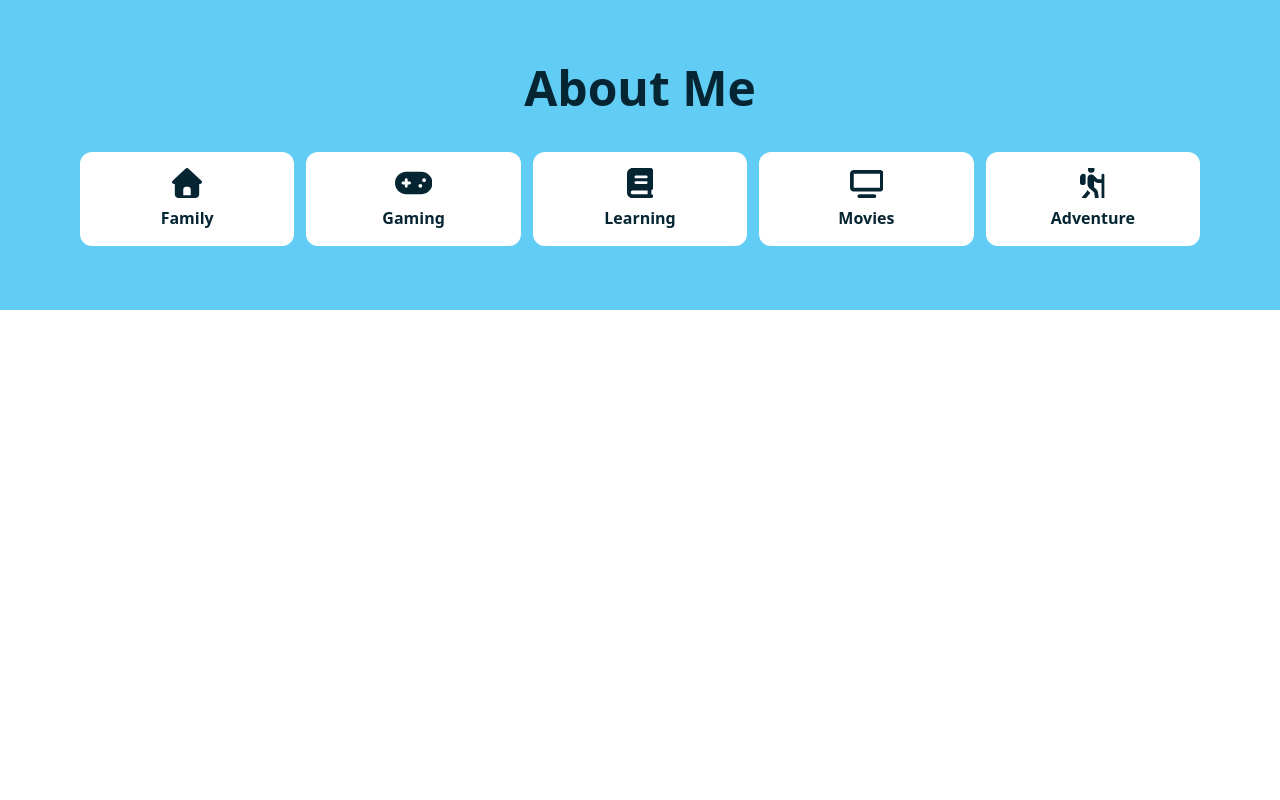
Test: AboutMe › keeps one tile open at a time
The width and height of the screenshot is (1280, 800).
Click the button "Family" at coordinates (187, 199), box [80,152,294,246]
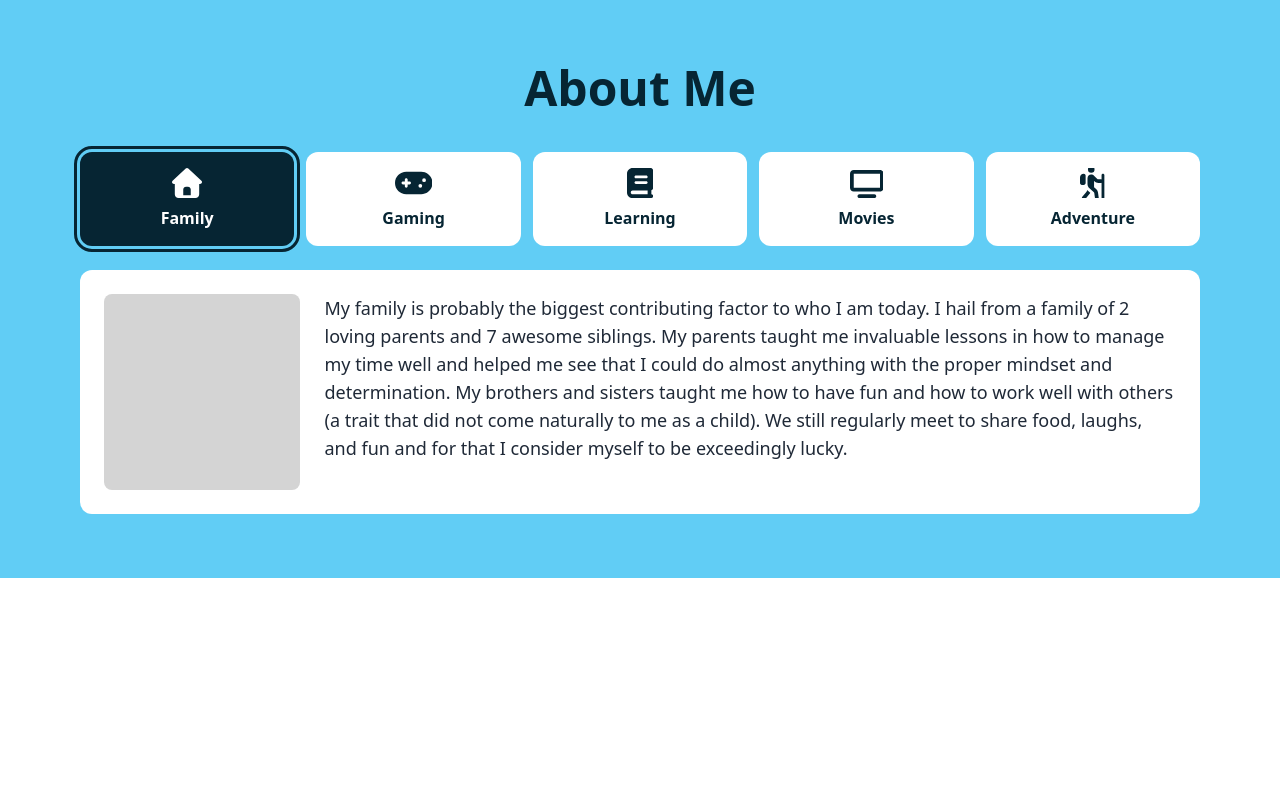
Click the button "Movies" at coordinates (866, 199), box [759,152,974,246]
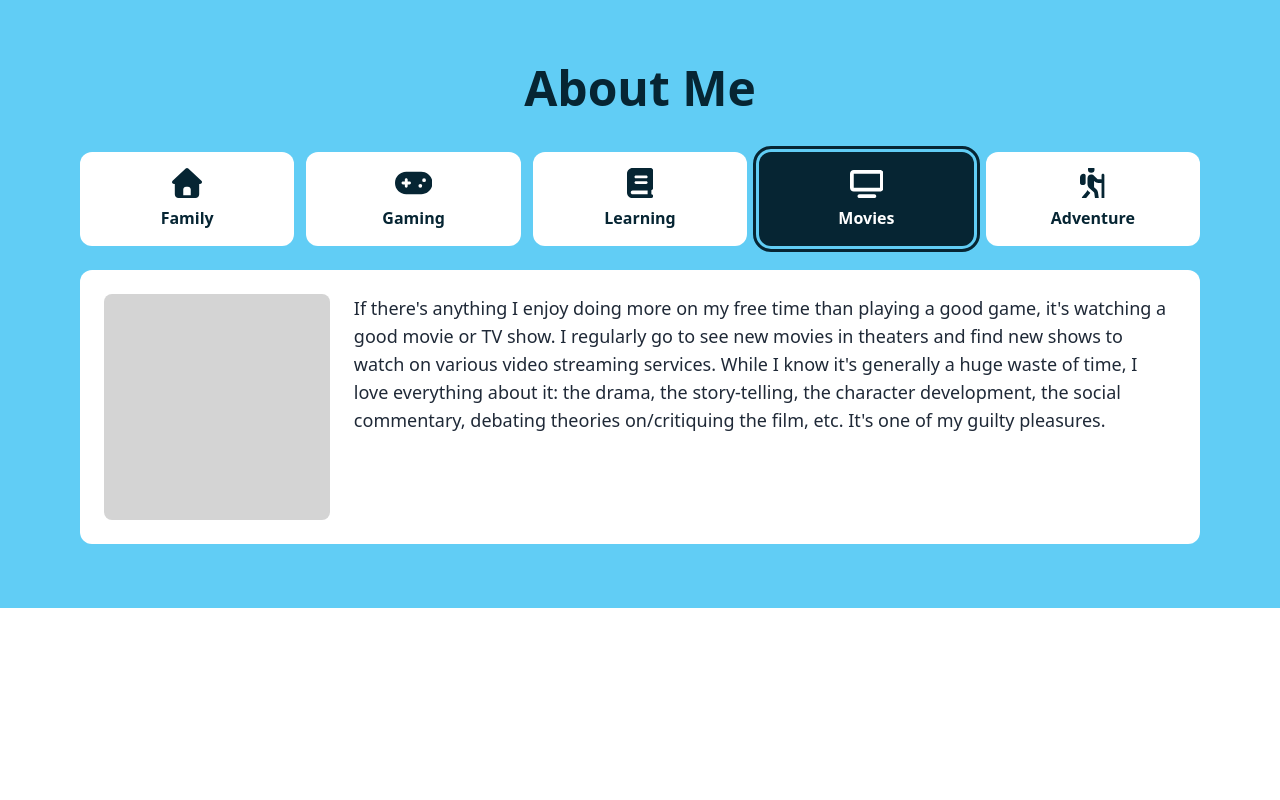
Expected: the button "Family" is collapsed, [80,152,294,246]
Expected: the button "Movies" is expanded, [759,152,974,246]
